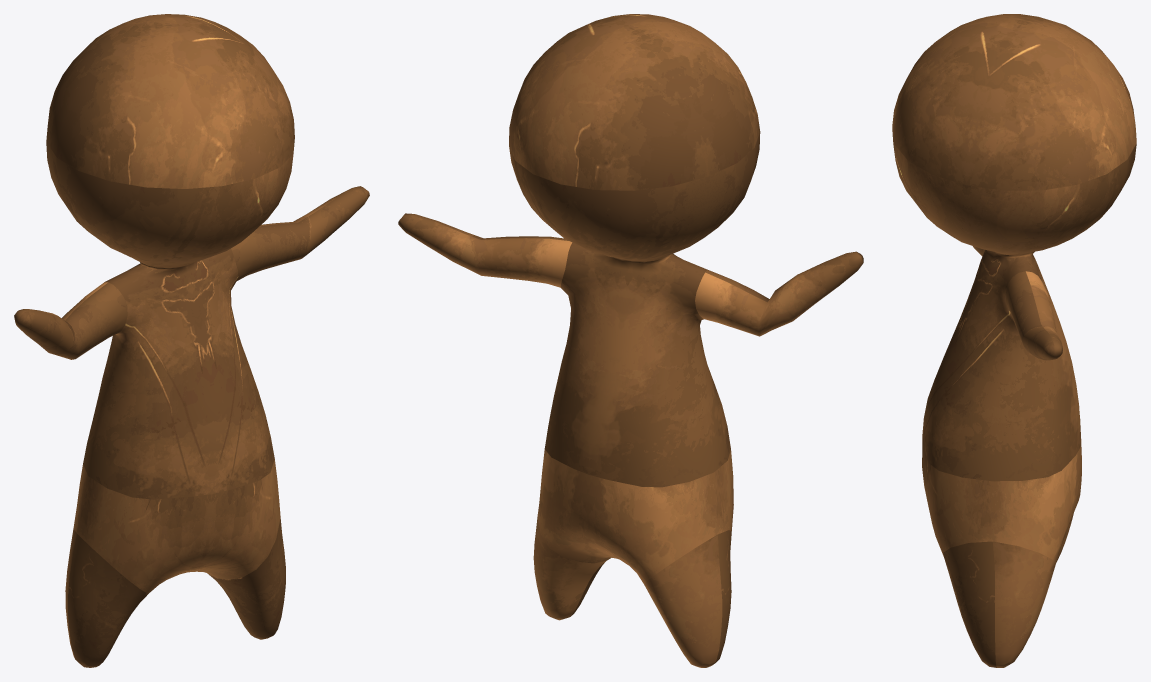
File: personagem7.fbx
3 renders of one model, left to right at view 1: azimuth 30°, elevation 25°; view 2: azimuth 150°, elevation 25°; view 3: azimuth 270°, elevation 25°, orthographic. The views are drawn at different scales.
Parts seen in each view (by area): view 1: polySurface114; view 2: polySurface114; view 3: polySurface114.
Boxes of the visible parts, x1=… form: polySurface114: x1=14, y1=14, x2=369, y2=667; polySurface114: x1=398, y1=14, x2=863, y2=667; polySurface114: x1=892, y1=14, x2=1136, y2=667.
Size of the model in its own units: 42.59 by 61.96 by 22.84.
